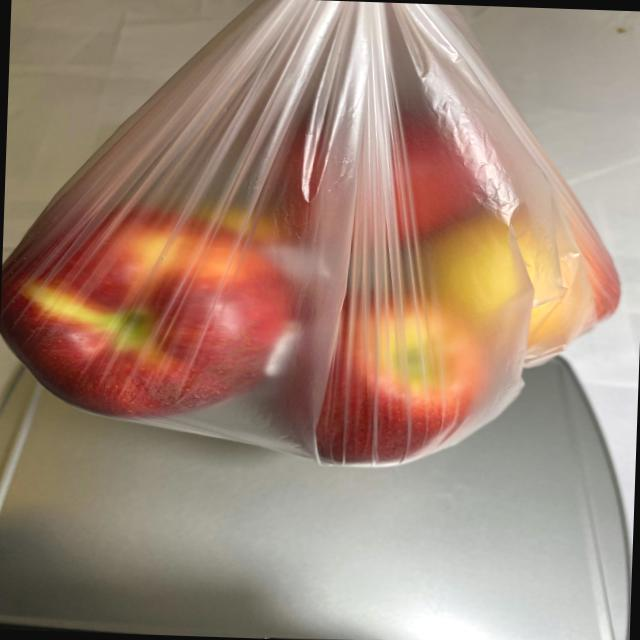apple: (0, 82, 630, 477)
